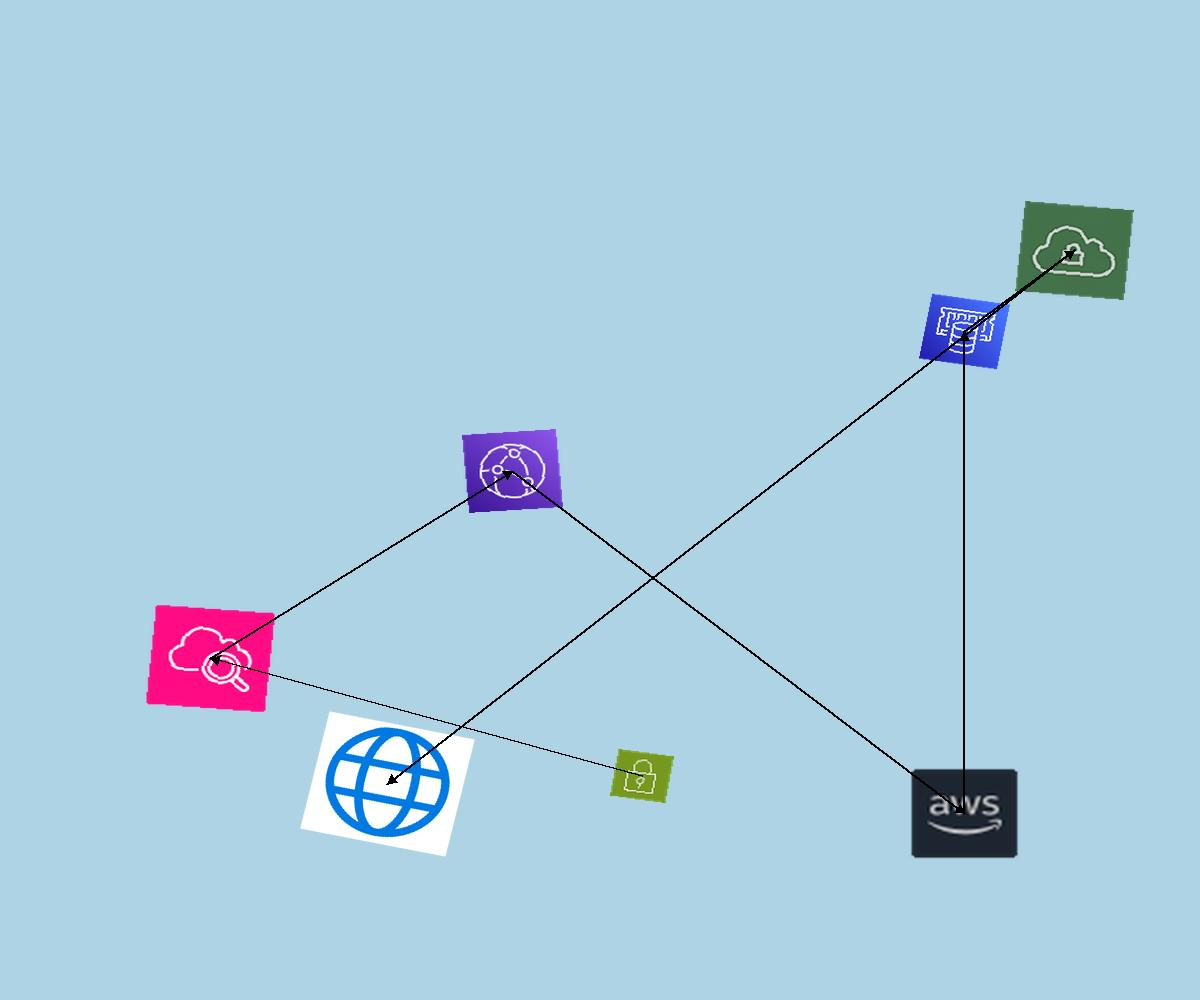AWS-Cloud-logo: (909, 767, 1020, 860)
AWS-CloudFront: (462, 429, 563, 513)
AWS-CloudWatch: (145, 604, 276, 713)
AWS-ElastiCache: (918, 293, 1011, 370)
AWS-Private_vpc: (1015, 201, 1134, 300)
AWS-Public-subnet: (610, 749, 674, 803)
Azure_http: (300, 711, 475, 857)
